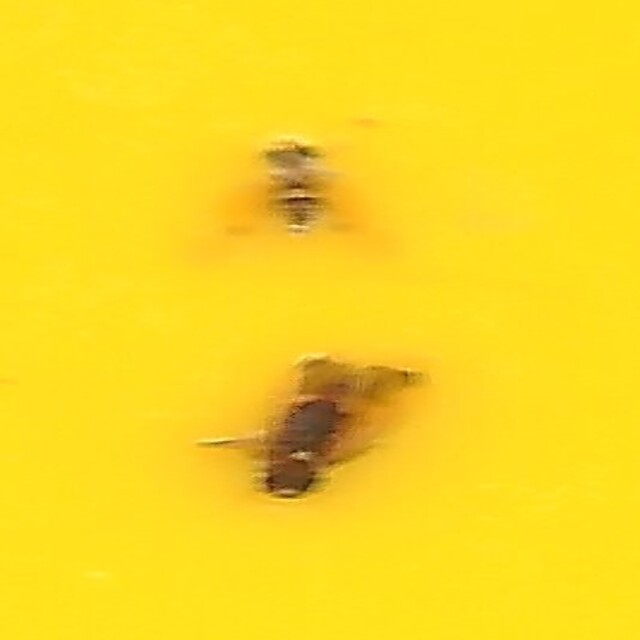Hemiptera: (240, 360, 400, 503), (244, 137, 338, 244)
